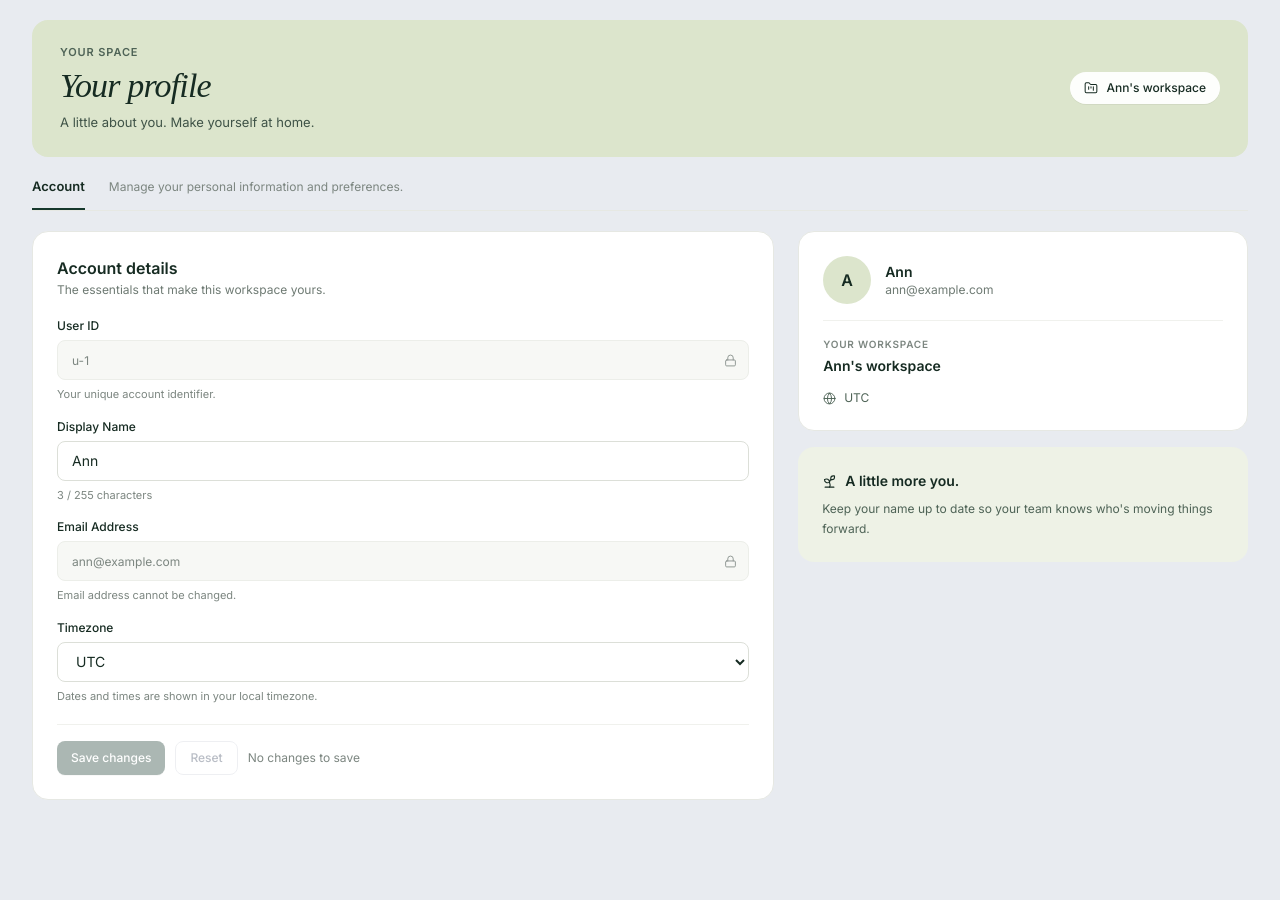
ProfilePage › shows server validation errors under the field and keeps the typed values
Replace the text in the field labelled "Display Name" with "Keep me" at (403, 460), box [57,440,749,480]
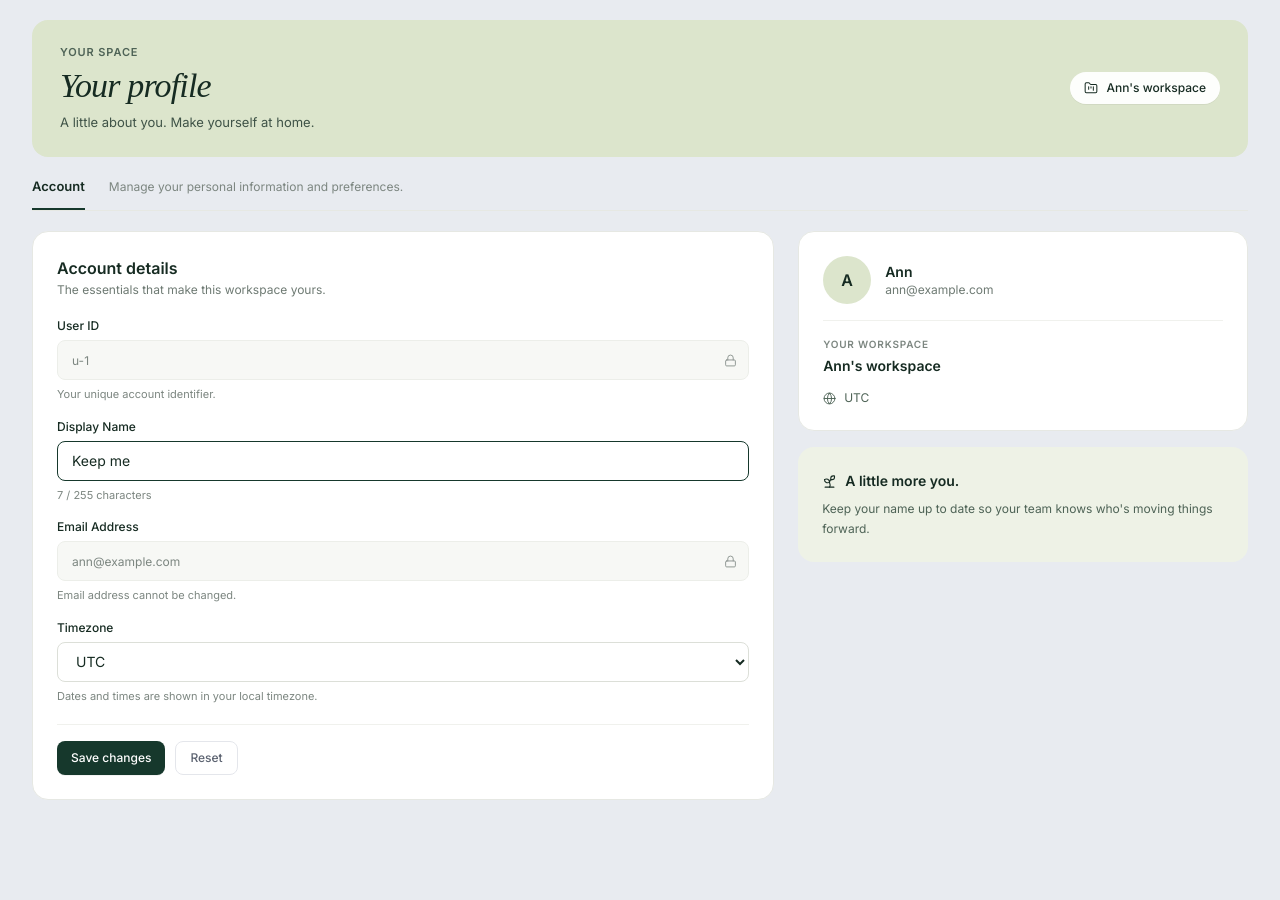
Click the button "Save changes" at (111, 758), box [57,741,165,775]
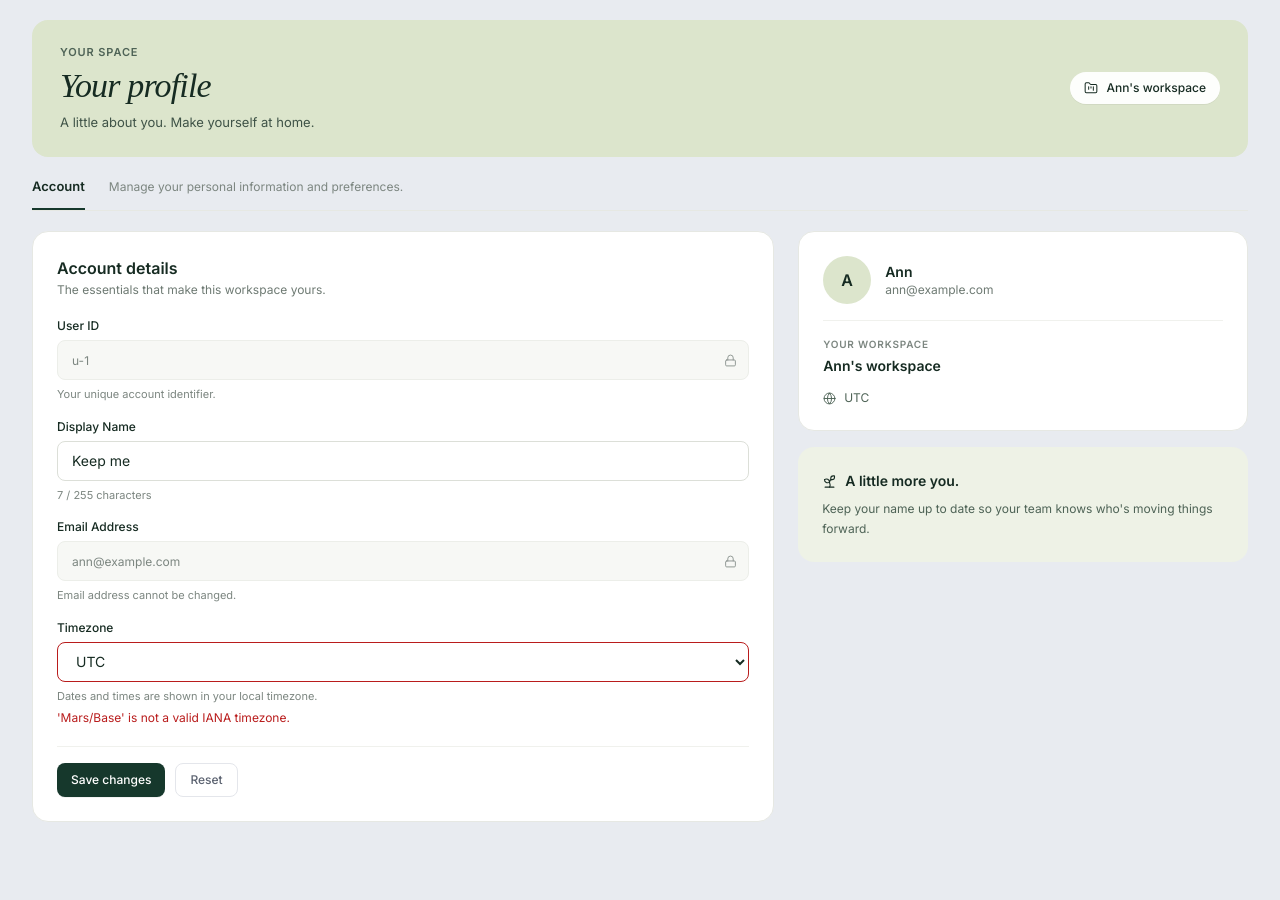
Check: the message shows "not a valid IANA timezone", box [57,710,290,725]
